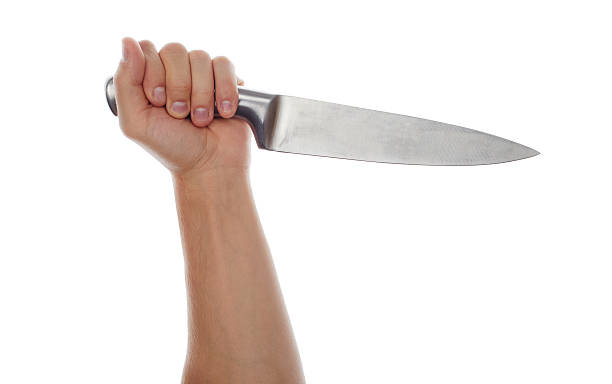knife: (102, 73, 544, 169)
